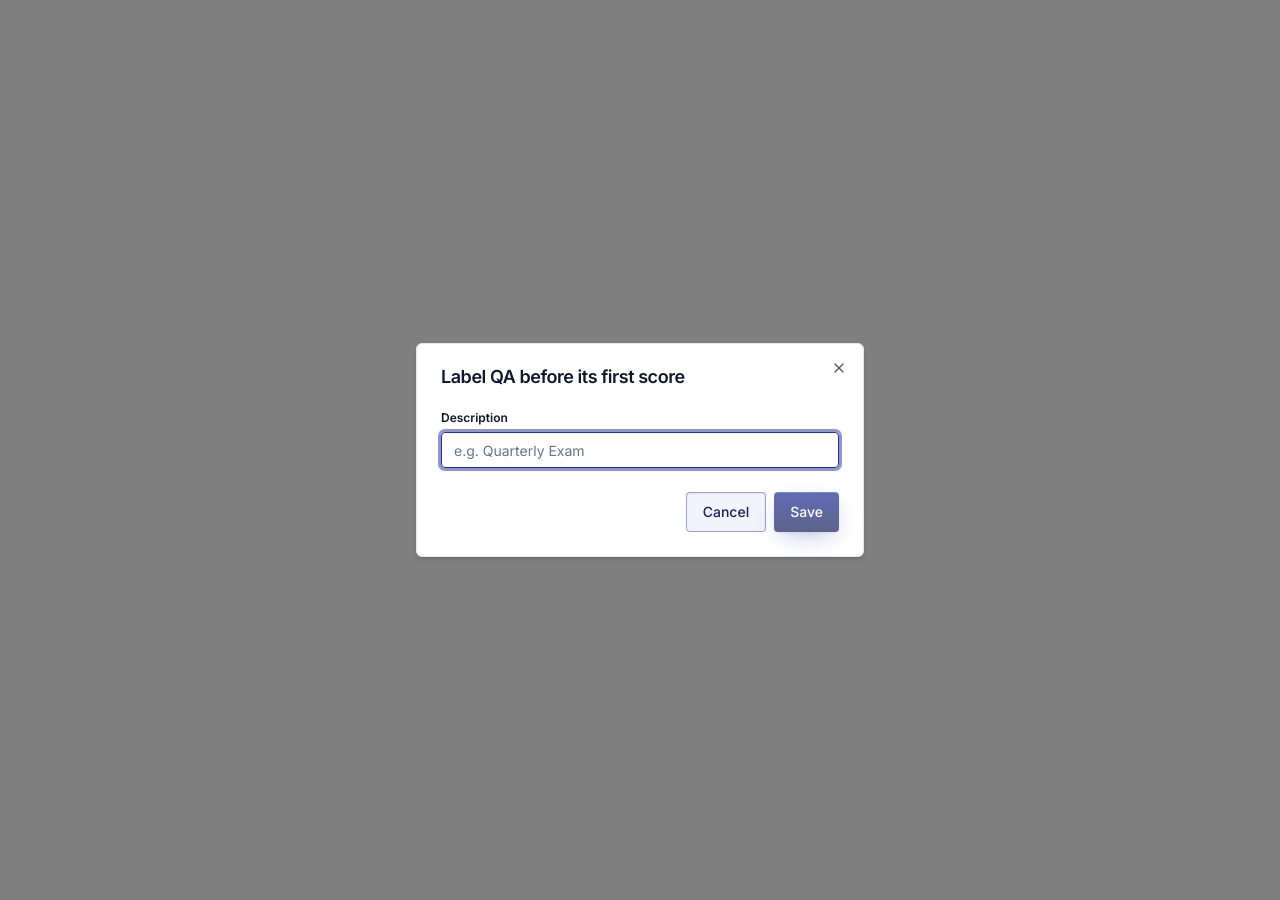
Test: FirstScoreLabelDialog › QA mode: Save requires only a description, no date/page fields render
The image size is (1280, 900).
Expected: the button "Save" is disabled, [774,492,839,532]
Type "Quarterly Exam" into the field labelled "Description" at (640, 450), box [441,432,839,468]
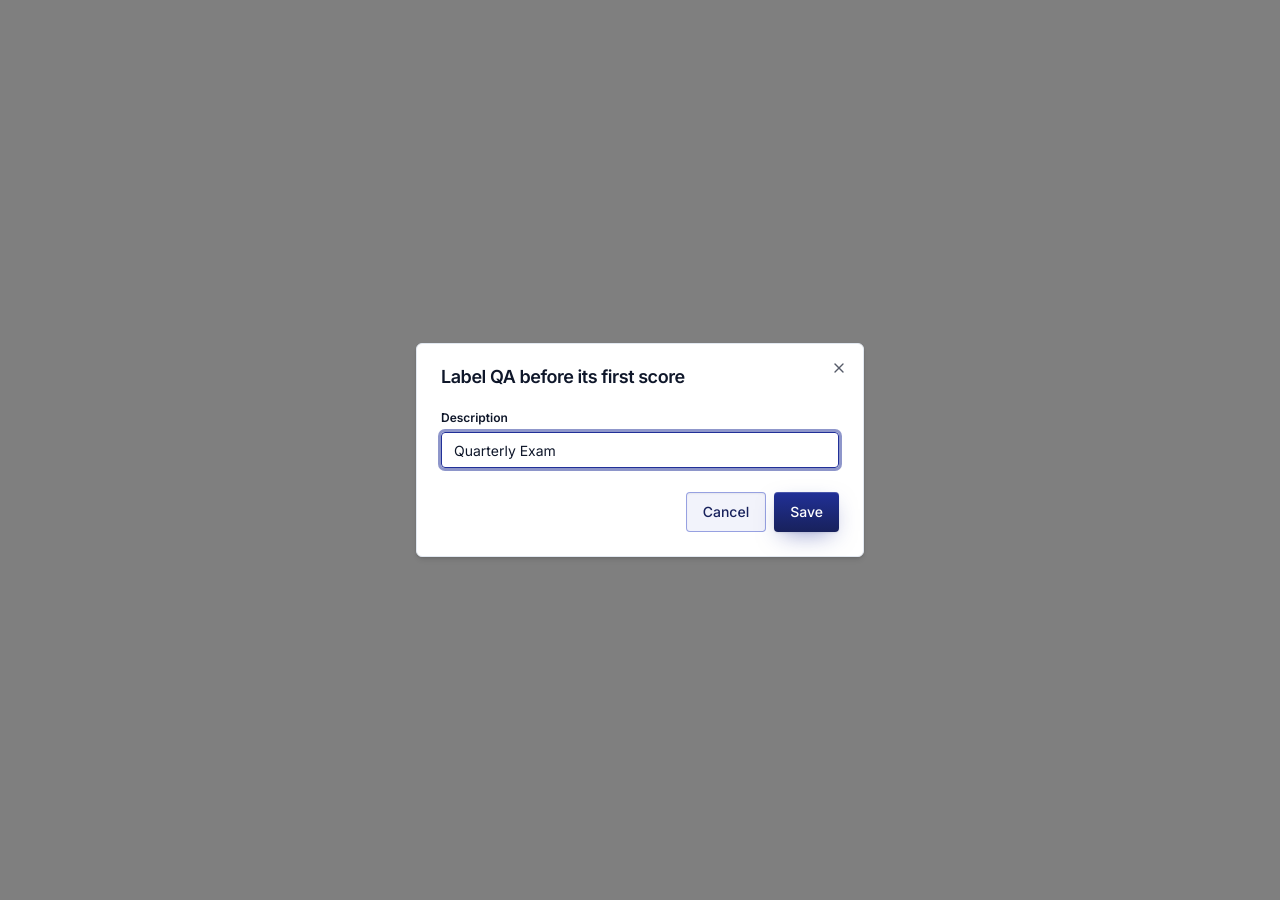
Now the button "Save" is enabled, box [774,492,839,532]
